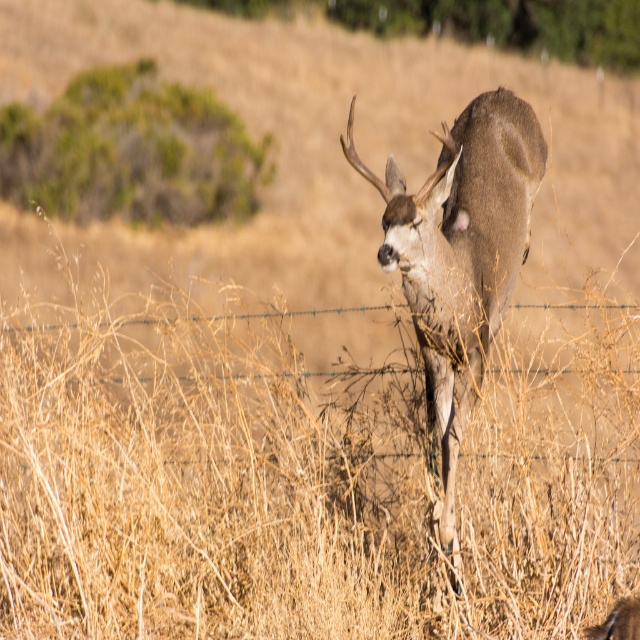Deer: (340, 83, 548, 598)
